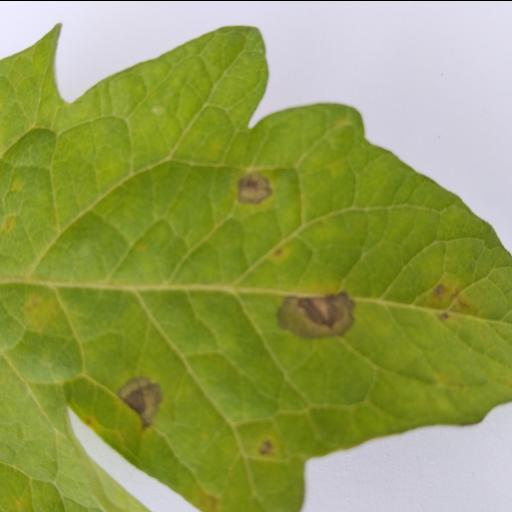Early Blight: (0, 22, 512, 512)
